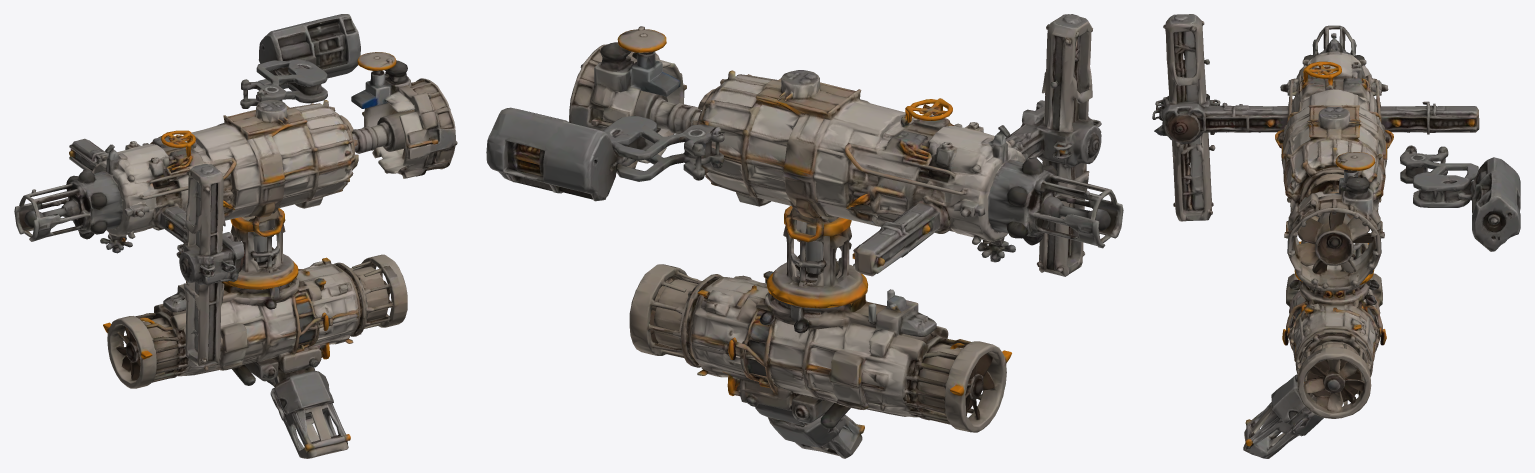
Rendered from factorystation2.glb.
3 views of the same model, side by side, from view 1: azimuth 30°, elevation 25°; view 2: azimuth 150°, elevation 25°; view 3: azimuth 270°, elevation 25° (orthographic). The views are drawn at different scales.
Visible parts, largest first — view 1: tripo_node_09292e99-5dda-4bac-a6e9-bc11a95104e0; view 2: tripo_node_09292e99-5dda-4bac-a6e9-bc11a95104e0; view 3: tripo_node_09292e99-5dda-4bac-a6e9-bc11a95104e0.
Part boxes in pixels (x1,y1,x2,y2): tripo_node_09292e99-5dda-4bac-a6e9-bc11a95104e0: [14, 14, 457, 458]; tripo_node_09292e99-5dda-4bac-a6e9-bc11a95104e0: [486, 14, 1123, 458]; tripo_node_09292e99-5dda-4bac-a6e9-bc11a95104e0: [1152, 14, 1520, 458].
Size of the model in its own units: 0.9995 by 0.8228 by 0.7669.
Materials: 1 (1 with a texture image).
